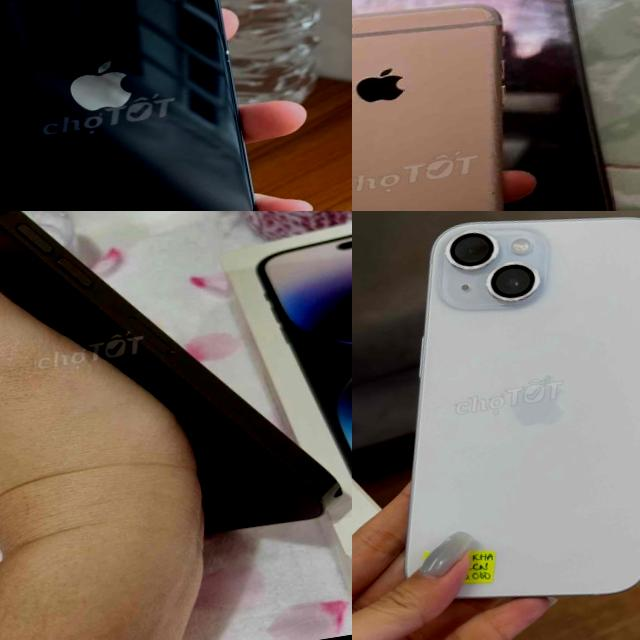physical_damage: (213, 39, 239, 65)
scratch: (440, 95, 545, 211), (437, 0, 543, 41)
